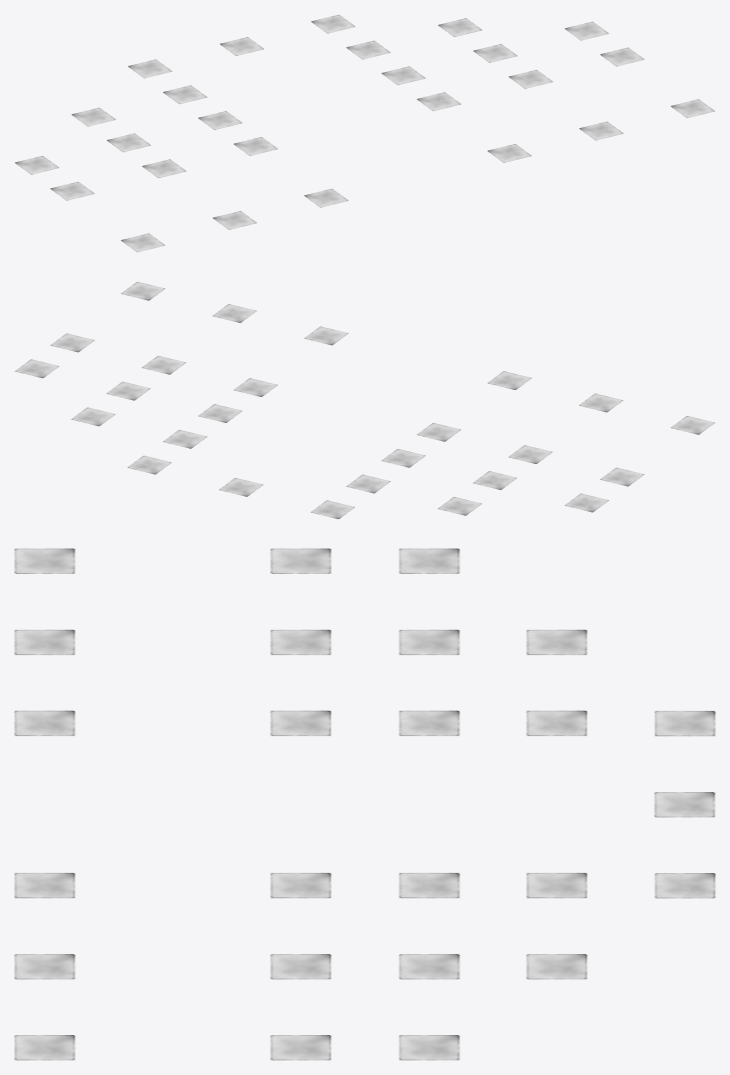
The model's file is SM_Backrooms_00_Lamps_00.fbx.
3 views of the same model, one above another, from view 1: azimuth 30°, elevation 25°; view 2: azimuth 150°, elevation 25°; view 3: azimuth 270°, elevation 25° (orthographic). The views are drawn at different scales.
Visible parts, largest first — view 1: SM_Backrooms_00_Lamps_00; view 2: SM_Backrooms_00_Lamps_00; view 3: SM_Backrooms_00_Lamps_00.
Part boxes in pixels (bbox=[...]): SM_Backrooms_00_Lamps_00: bbox=[14, 14, 715, 252]; SM_Backrooms_00_Lamps_00: bbox=[14, 281, 715, 519]; SM_Backrooms_00_Lamps_00: bbox=[14, 548, 715, 1060].
Size of the model in its own units: 4956 by 0 by 2870.
